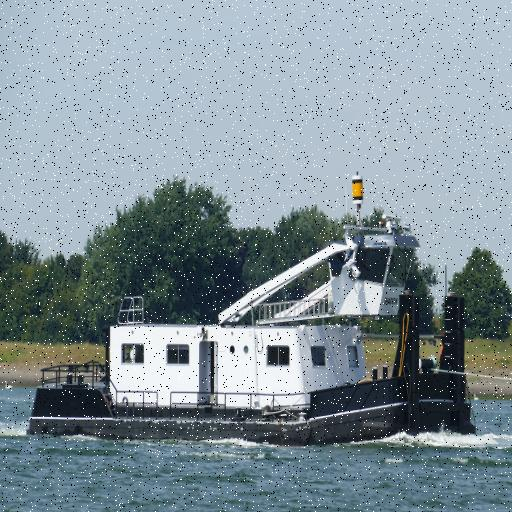tugboat: (24, 213, 481, 461)
